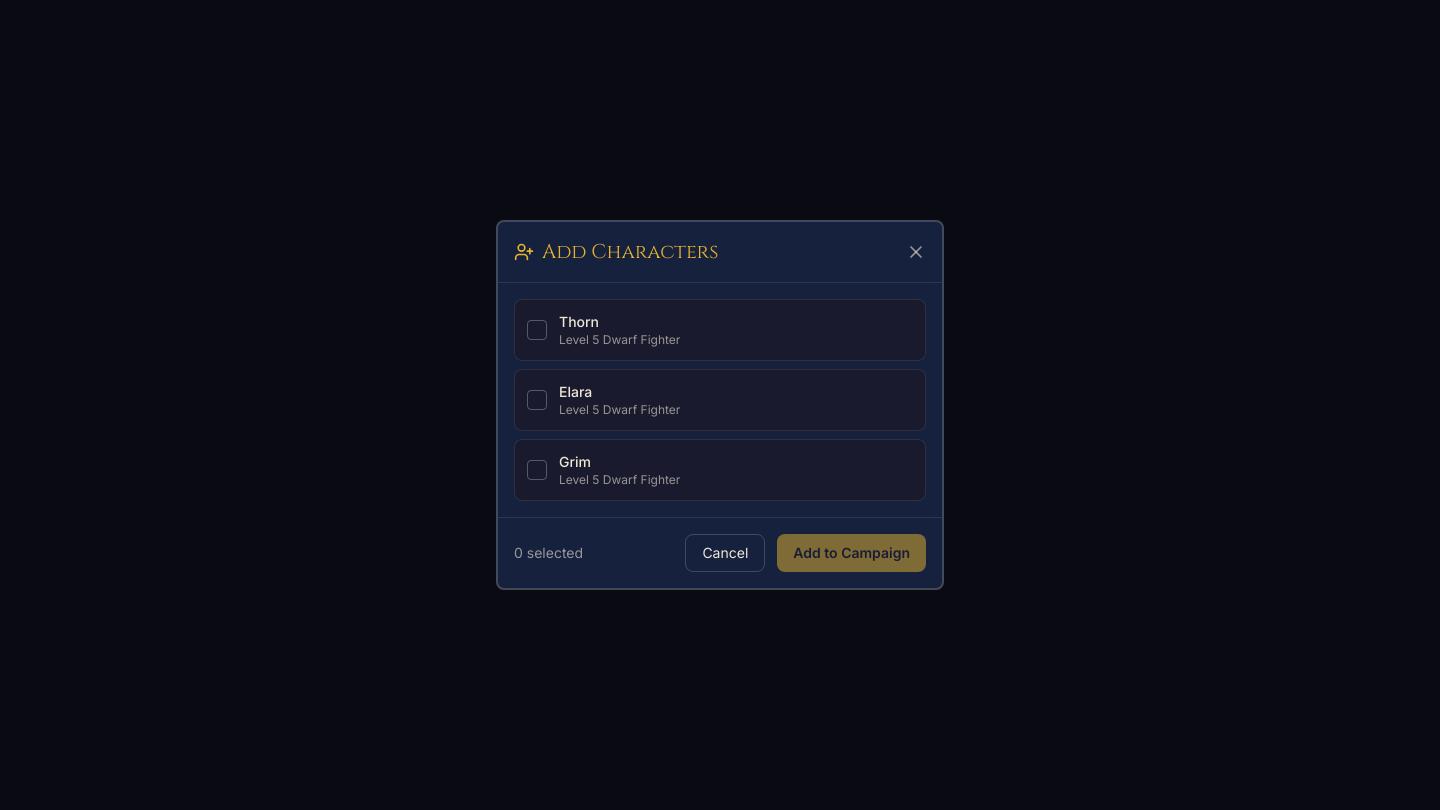
Test case: CharacterPicker › allows selecting multiple characters
This screenshot has width=1440, height=810.
Click the text "Thorn". click: coordinates (579, 322)
box: [559,313,599,330]
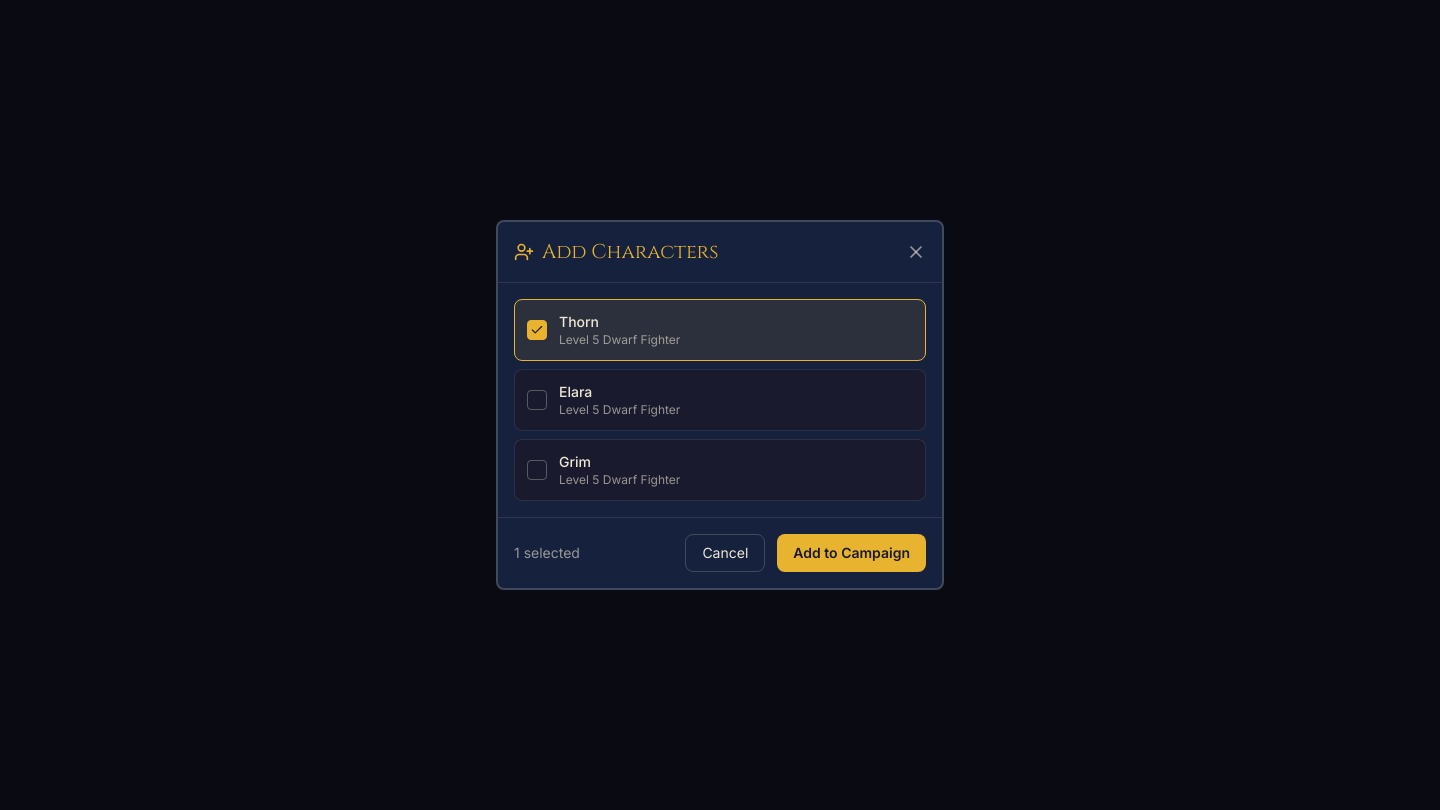
Click the text "Elara". click: coordinates (576, 392)
box: [559,383,592,400]
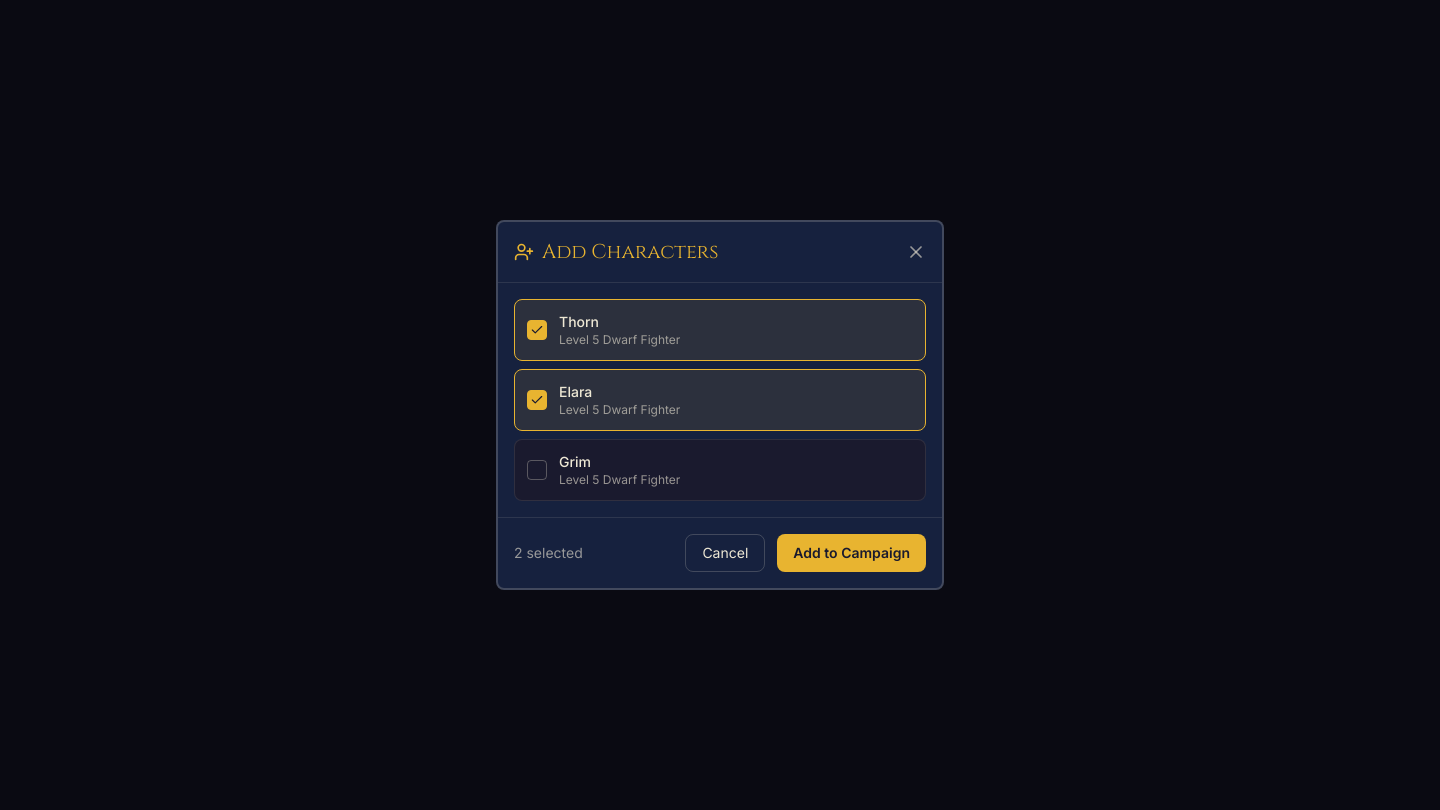
Expected: the text "2 selected" is shown, [514,543,583,563]
